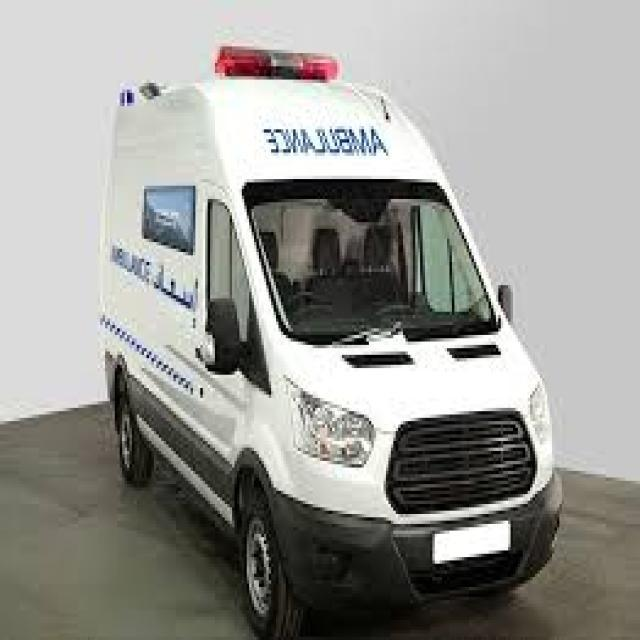ambulance: (88, 38, 575, 636)
